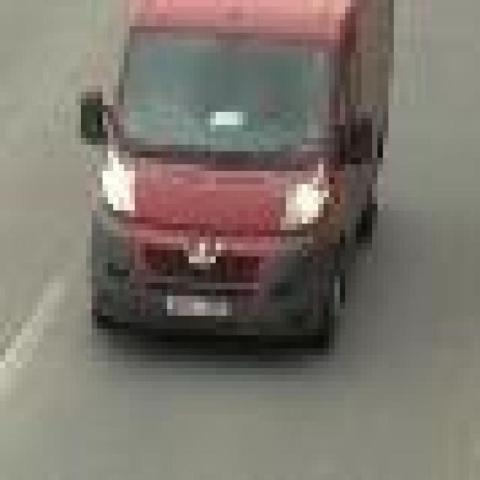van: (89, 0, 391, 349)
